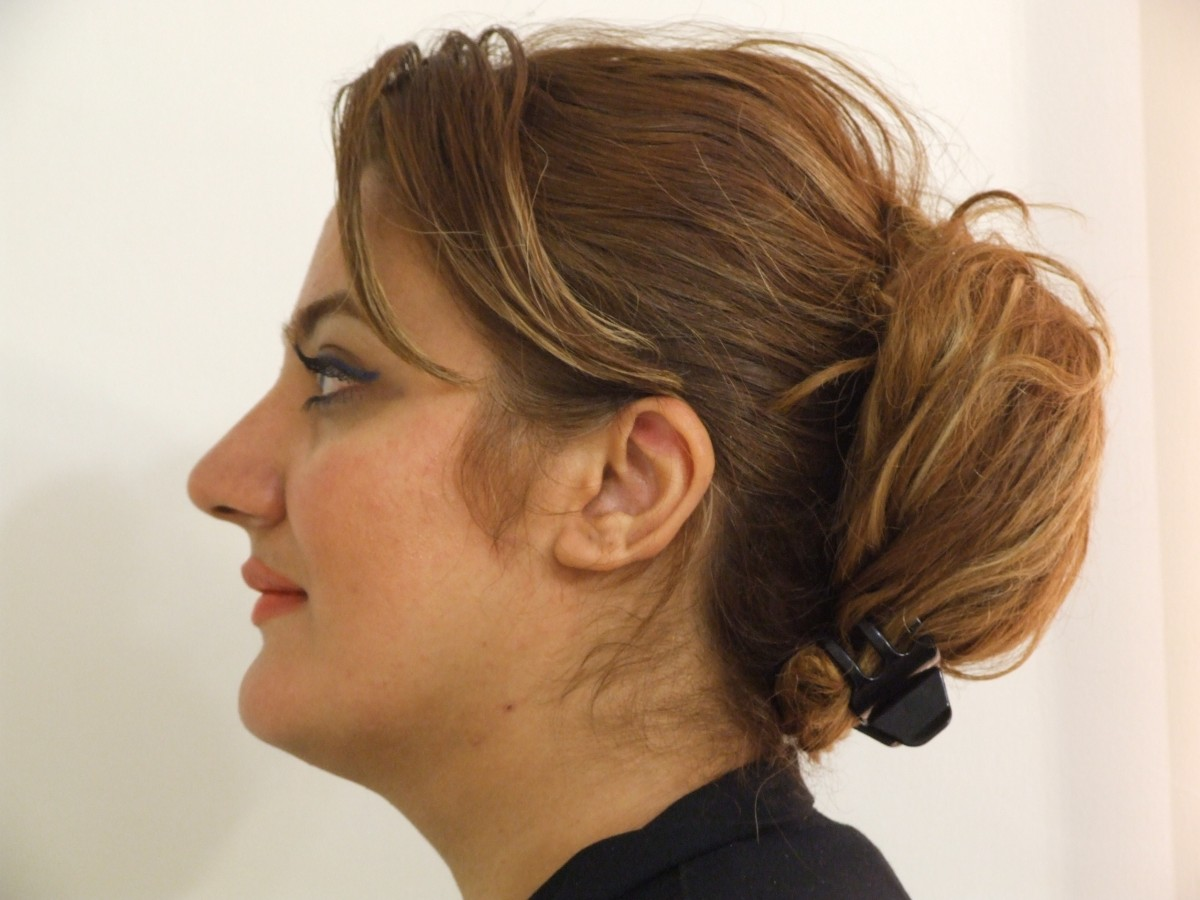neo: (494, 696, 529, 732)
occhiaia: (287, 388, 445, 459)
